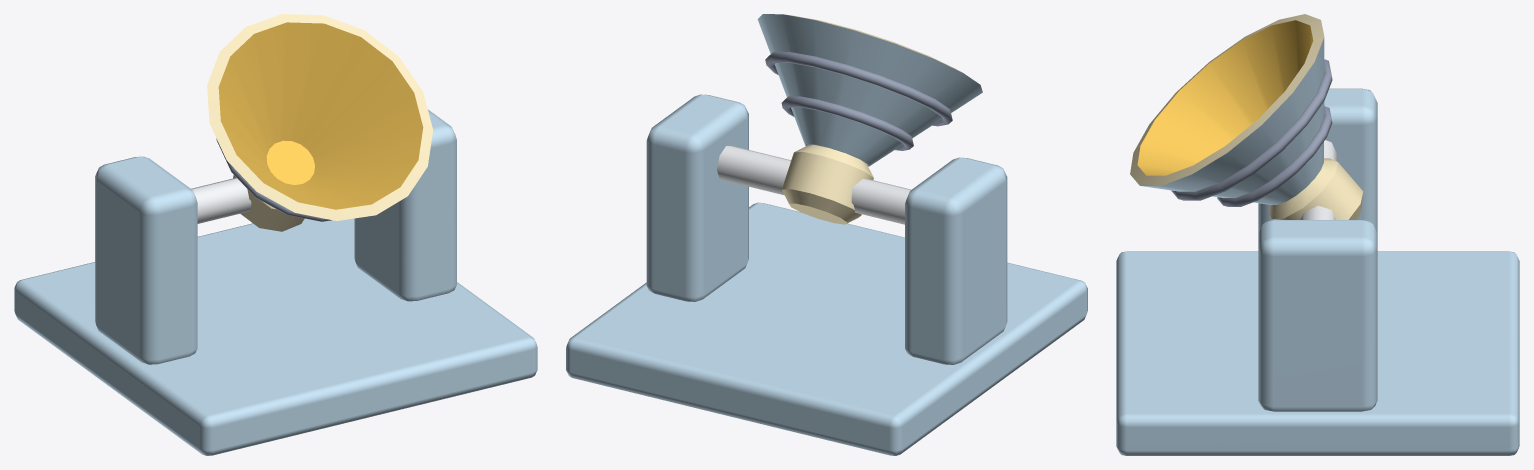
The model's file is R4X_DeployableAmplifier.fbx.
3 views of the same model, side by side, from view 1: azimuth 30°, elevation 25°; view 2: azimuth 150°, elevation 25°; view 3: azimuth 270°, elevation 25° (orthographic). The views are drawn at different scales.
Parts seen in each view (by area): view 1: R4X_DeployableAmplifier_Body, R4X_DeployableAmplifier_Horn; view 2: R4X_DeployableAmplifier_Body, R4X_DeployableAmplifier_Horn; view 3: R4X_DeployableAmplifier_Body, R4X_DeployableAmplifier_Horn.
Boxes of the visible parts, box(x1,y1,x2,y2) form: R4X_DeployableAmplifier_Body: box(14, 109, 537, 455); R4X_DeployableAmplifier_Horn: box(207, 14, 432, 231); R4X_DeployableAmplifier_Body: box(566, 94, 1087, 455); R4X_DeployableAmplifier_Horn: box(757, 14, 982, 224); R4X_DeployableAmplifier_Body: box(1116, 88, 1519, 455); R4X_DeployableAmplifier_Horn: box(1130, 14, 1363, 219).
Bounding box in the file's own units: 0.52 × 0.4876 × 0.52.
